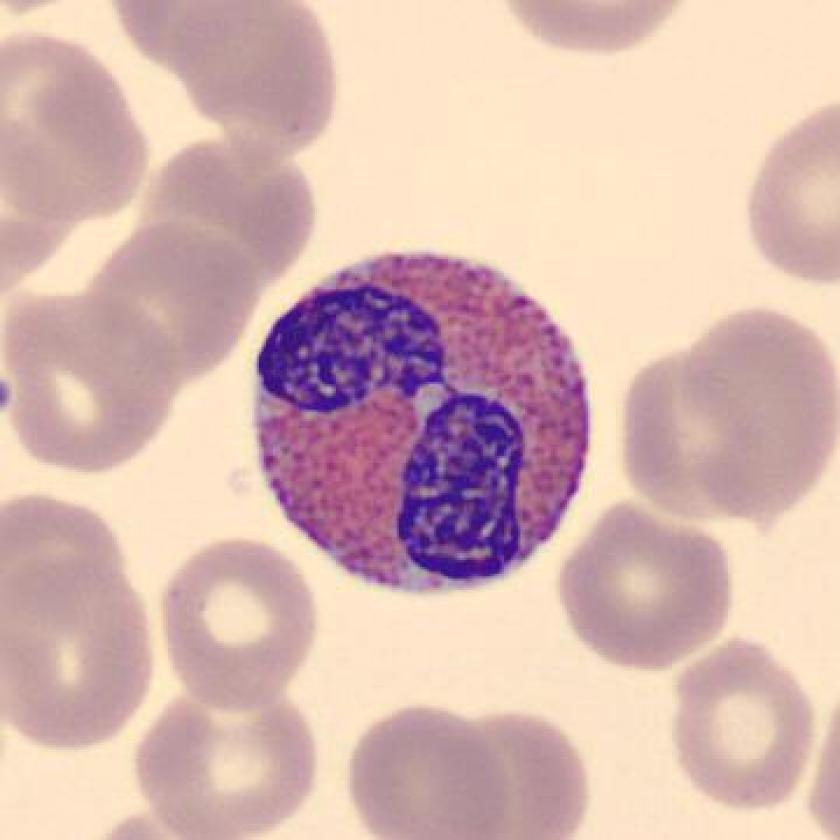eosinophil: (241, 239, 603, 605)
